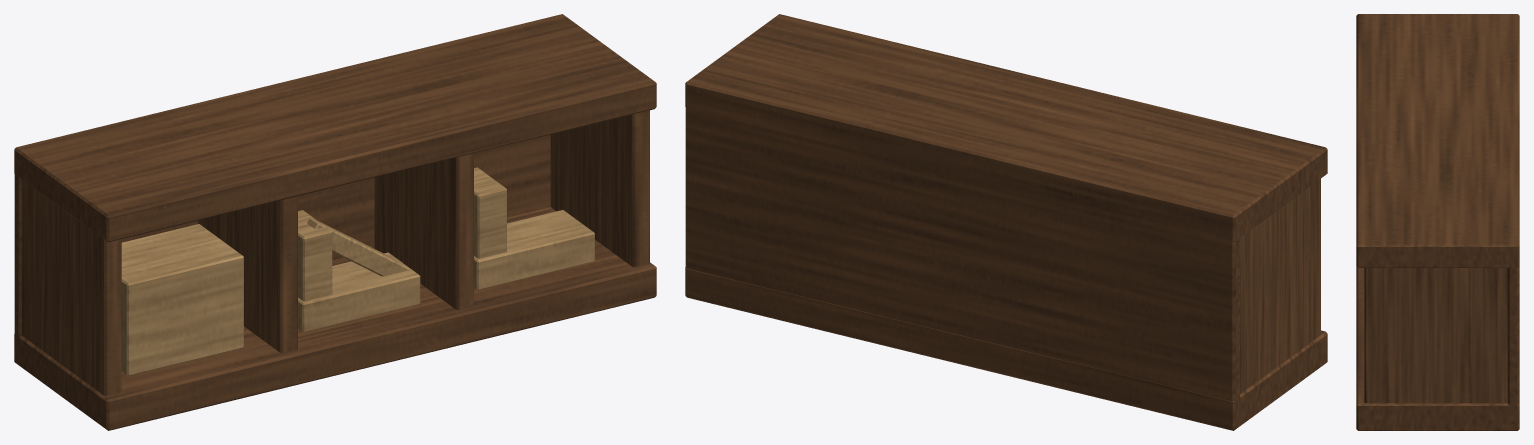
File: WestAngleSamples_LOD0.fbx
3 views of the same model, side by side, from view 1: azimuth 30°, elevation 25°; view 2: azimuth 150°, elevation 25°; view 3: azimuth 270°, elevation 25° (orthographic). The views are drawn at different scales.
Visible parts, largest first — view 1: WestAngleSamples; view 2: WestAngleSamples; view 3: WestAngleSamples.
Part boxes in pixels (x1=…): WestAngleSamples: x1=14, y1=14, x2=656, y2=430; WestAngleSamples: x1=685, y1=14, x2=1327, y2=430; WestAngleSamples: x1=1356, y1=14, x2=1519, y2=430.
Bounding box in the file's own units: 1.15 × 0.4315 × 0.342.
Materials: 1 (1 with a texture image).
